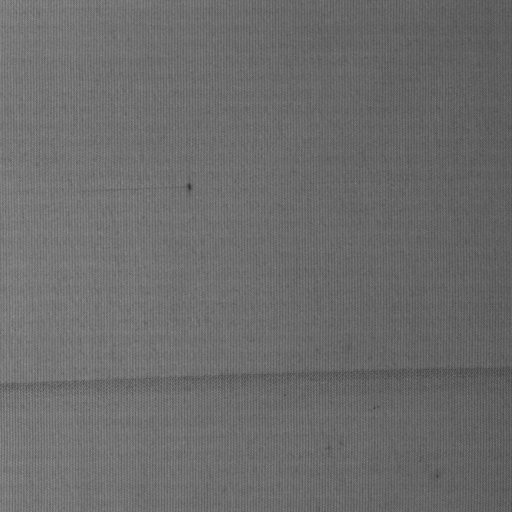defect: (1, 358, 510, 401)
